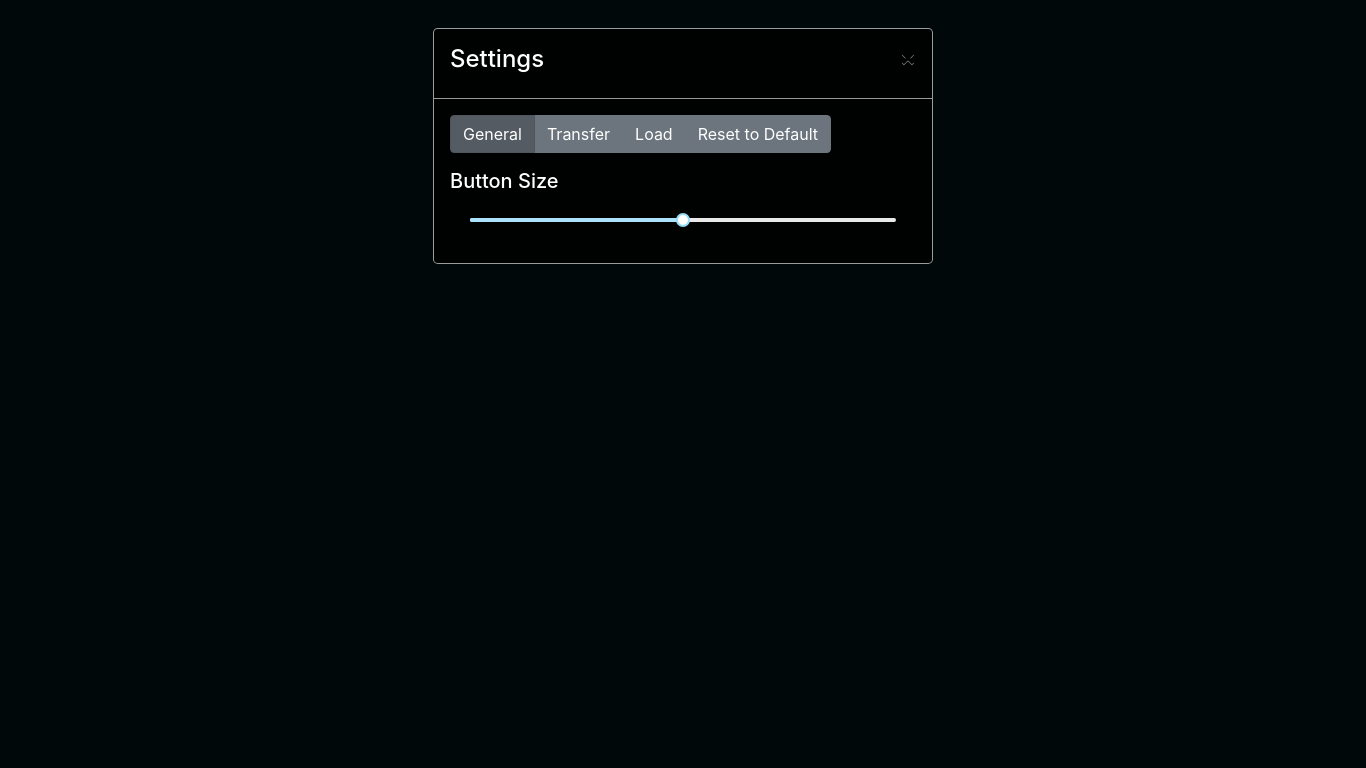
Scenario: should render reset tab on reset button click
Click the text "Reset to Default" at (758, 134), box [685,115,831,153]
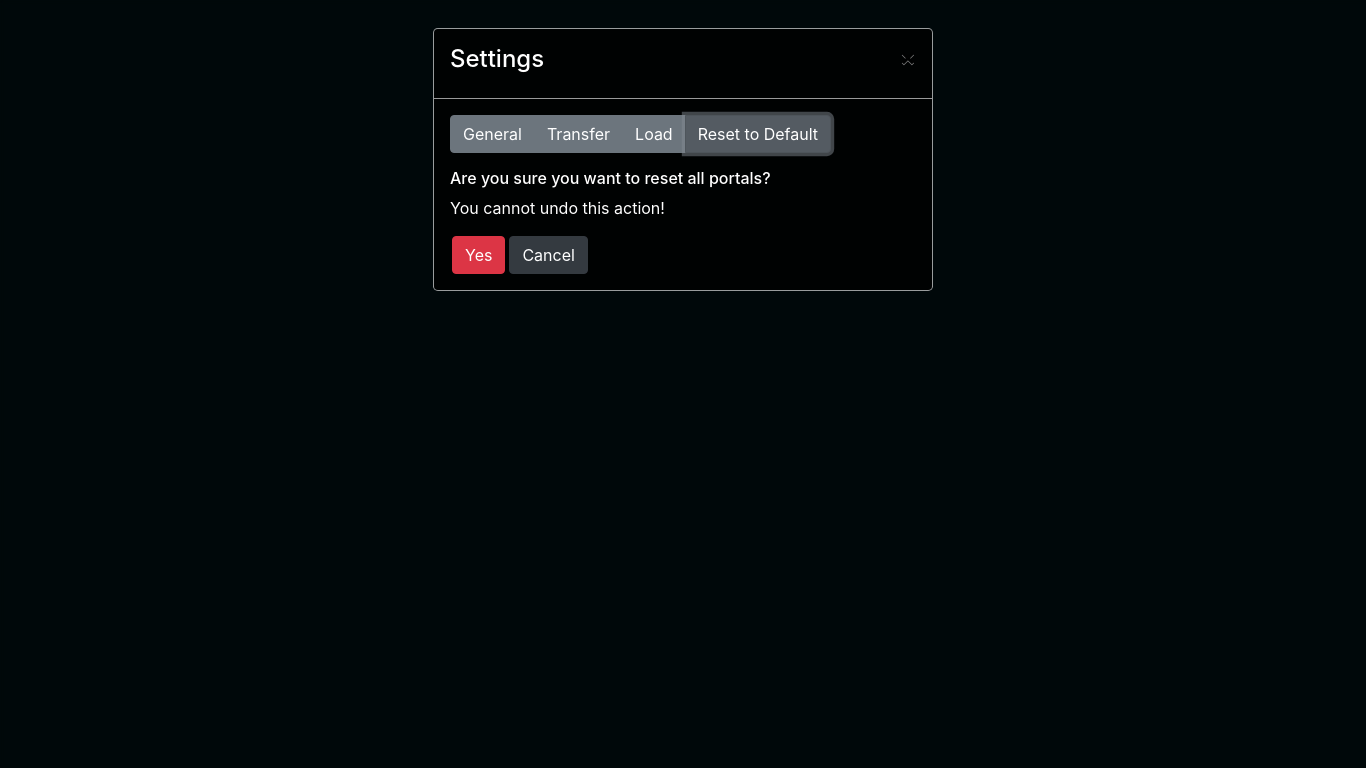
Expected: the heading "Are you sure you want to reset all portals?" is shown, [450,168,771,188]
